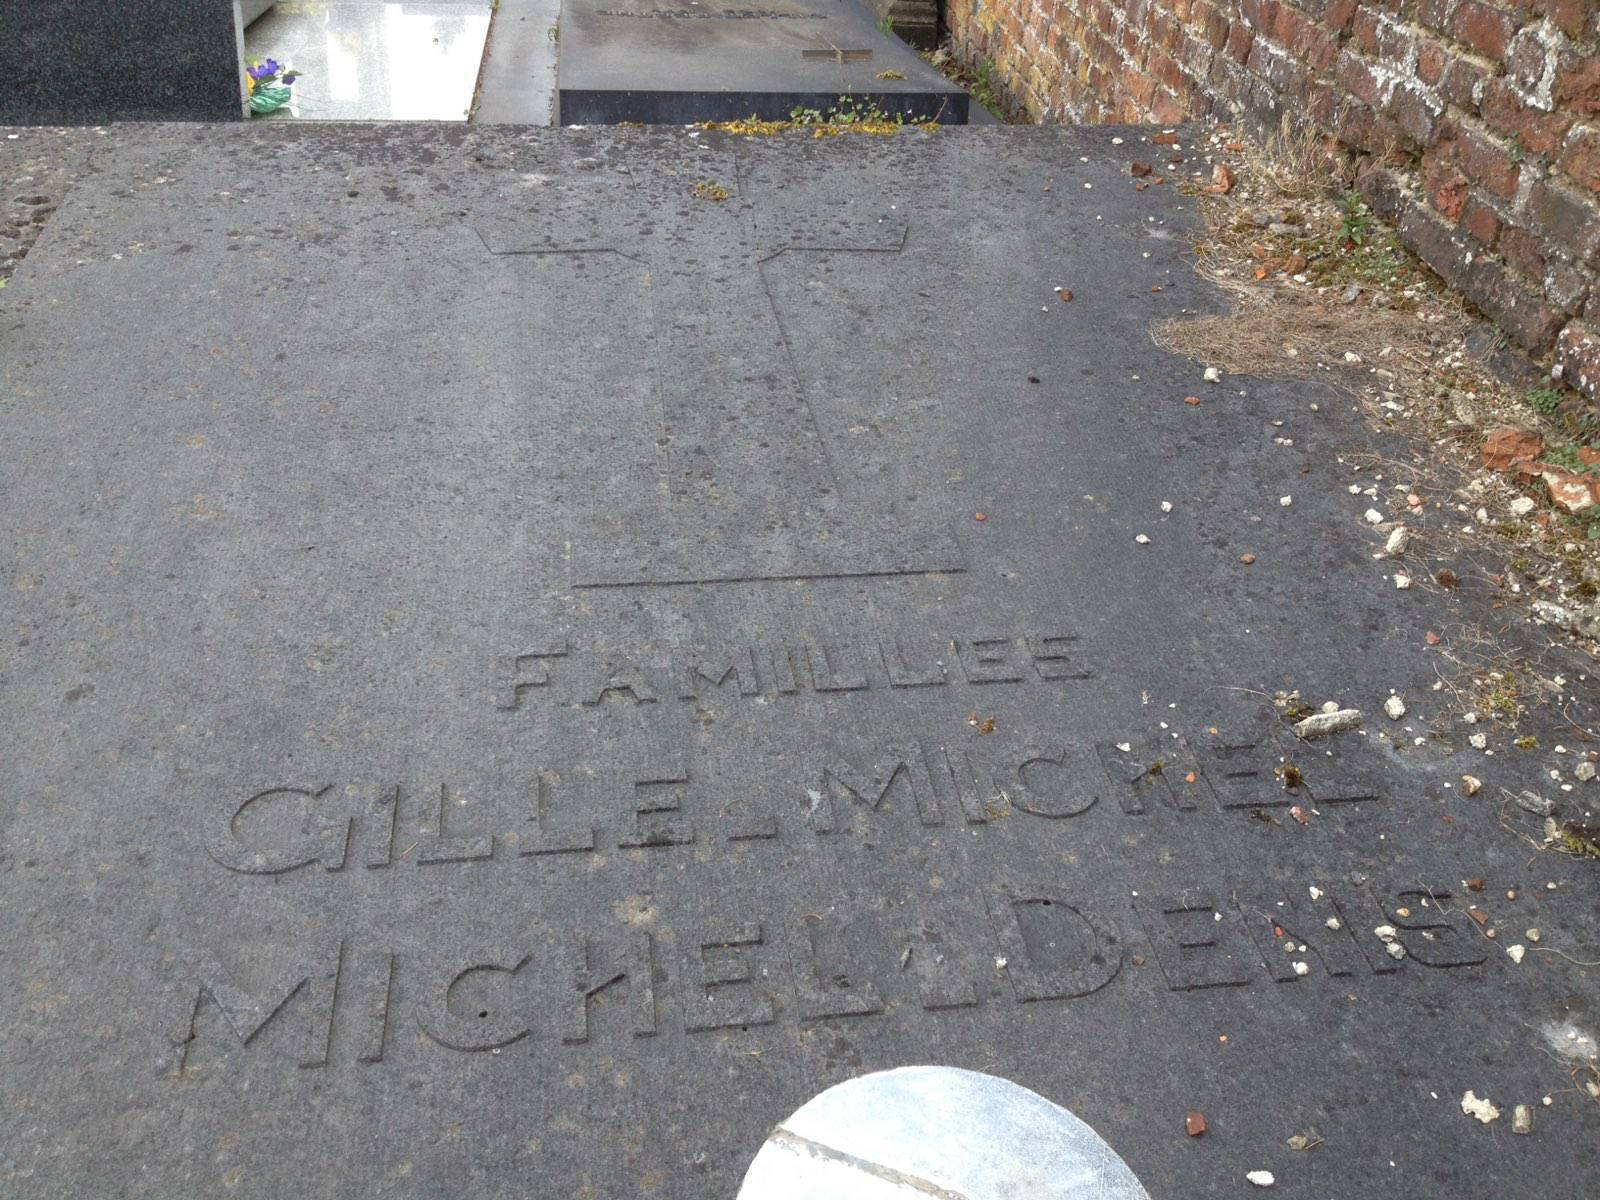vault: (0, 92, 1600, 1200)
